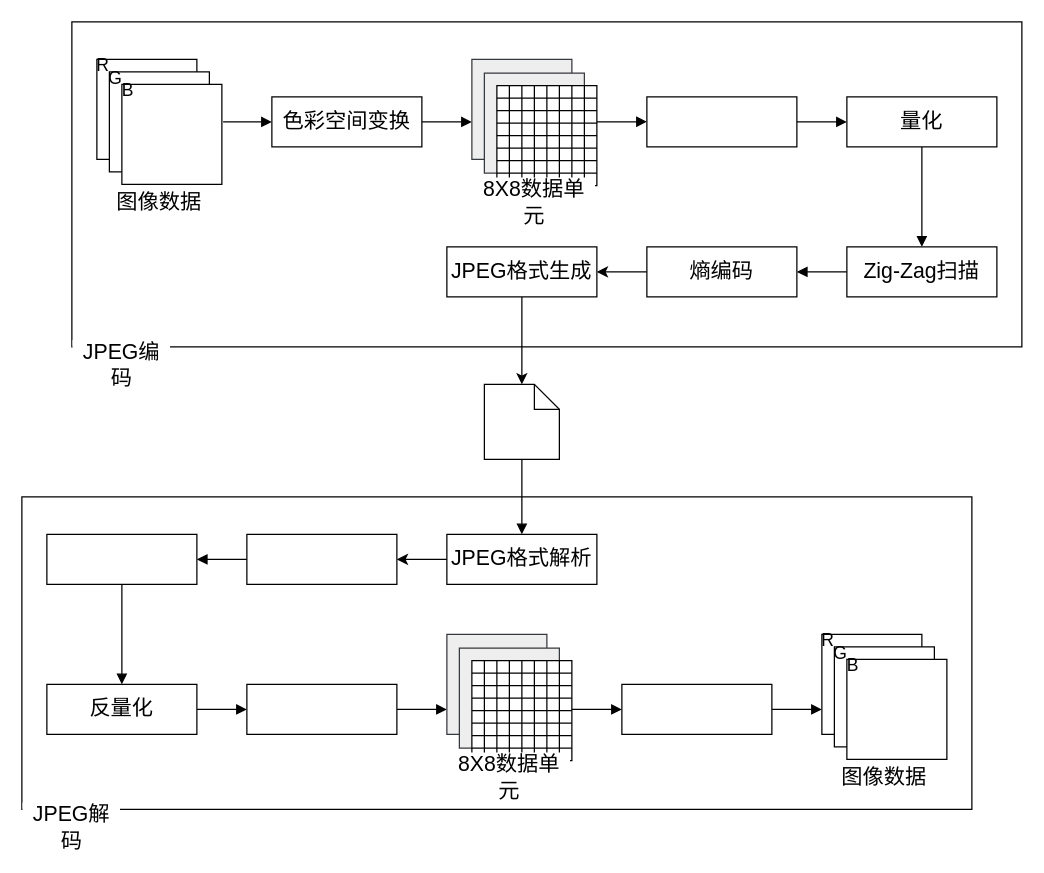
Image size: 1044x873. Some labels were removed from this diagram. Here are the shapes that lost their labels. From the top down, the box of each, then its label:
(646, 96, 797, 147): DCT变换
(483, 383, 559, 459): JPEG 文件
(46, 533, 197, 584): 反Zig-Zag扫描
(246, 533, 397, 584): 熵解码
(246, 683, 397, 734): DCT逆变换
(621, 683, 772, 734): 色彩空间逆变换
